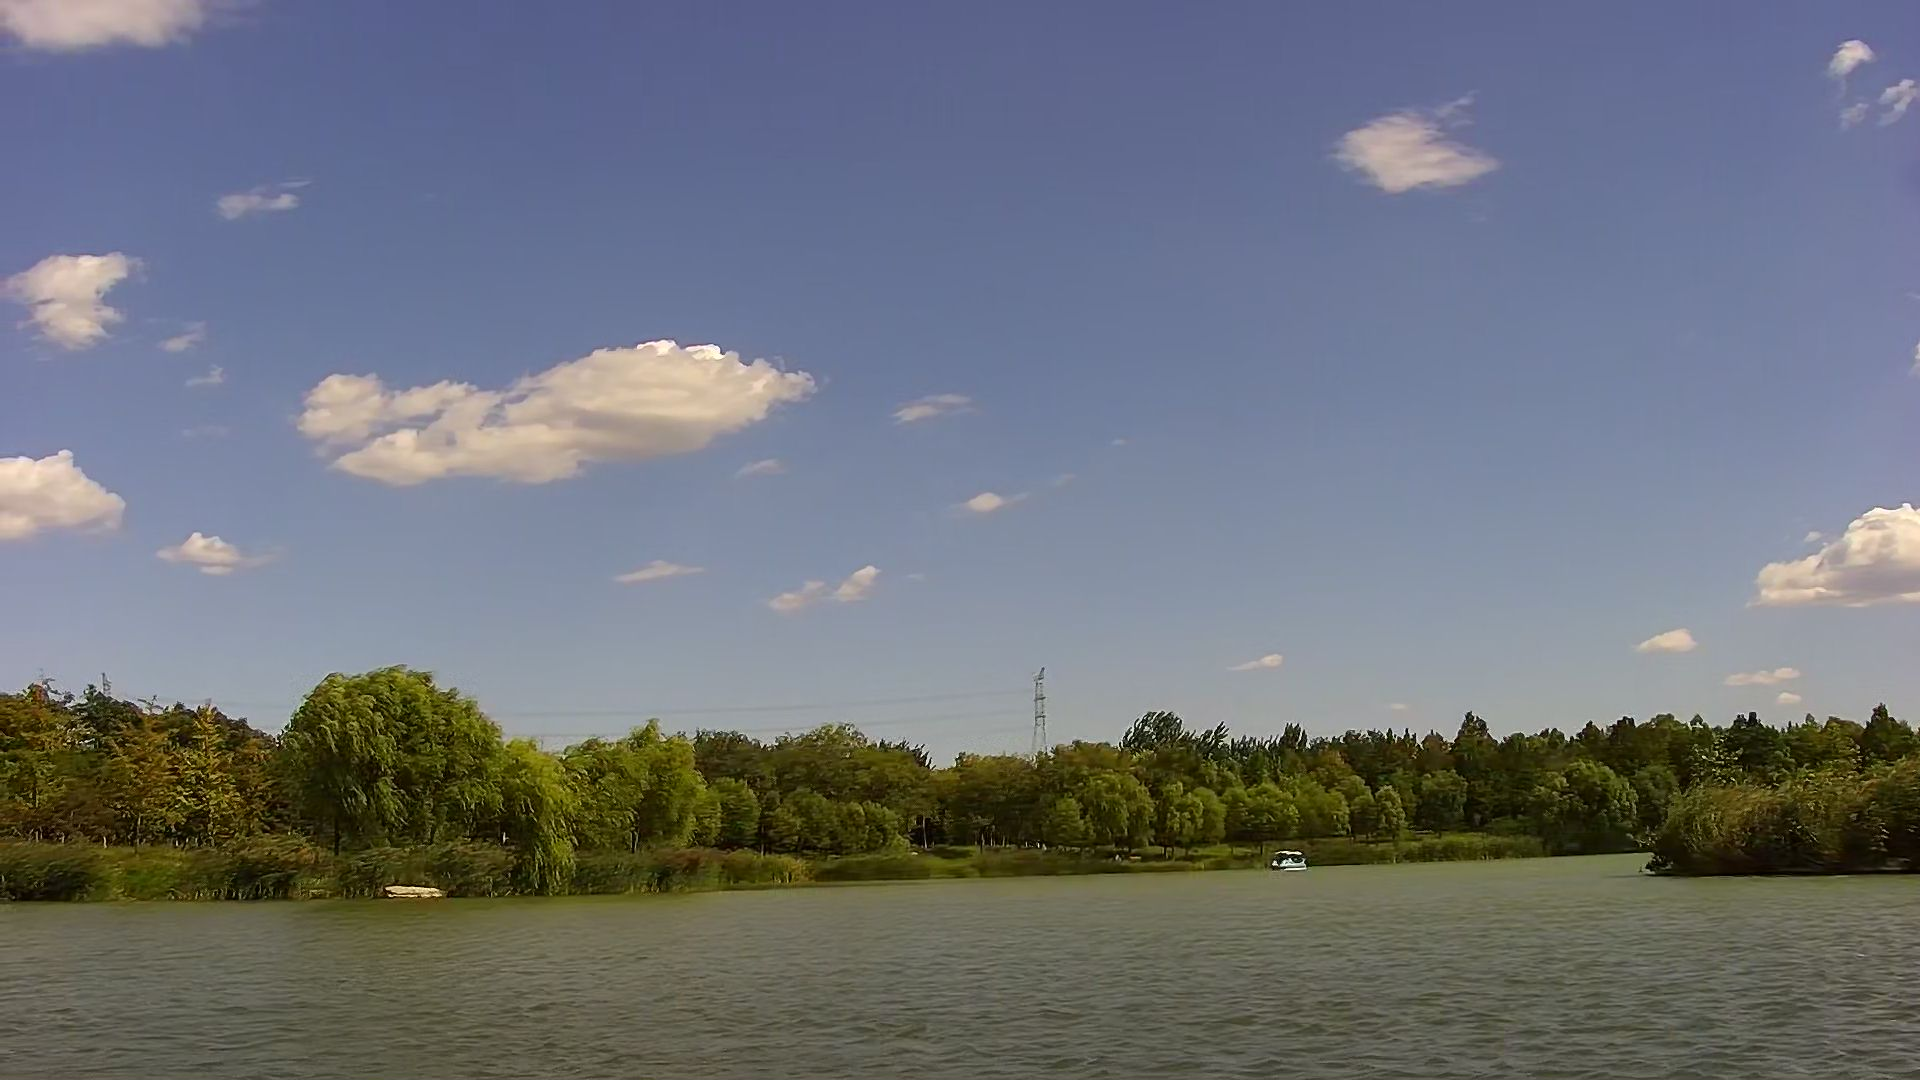boat: (1265, 849, 1313, 874)
